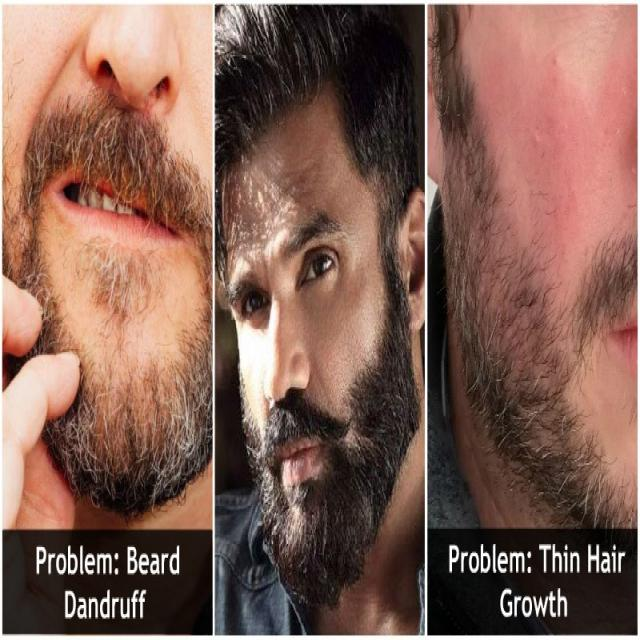beard: (3, 93, 211, 519), (444, 186, 638, 525), (243, 309, 420, 606), (95, 248, 154, 330)
hair: (215, 3, 420, 257)
